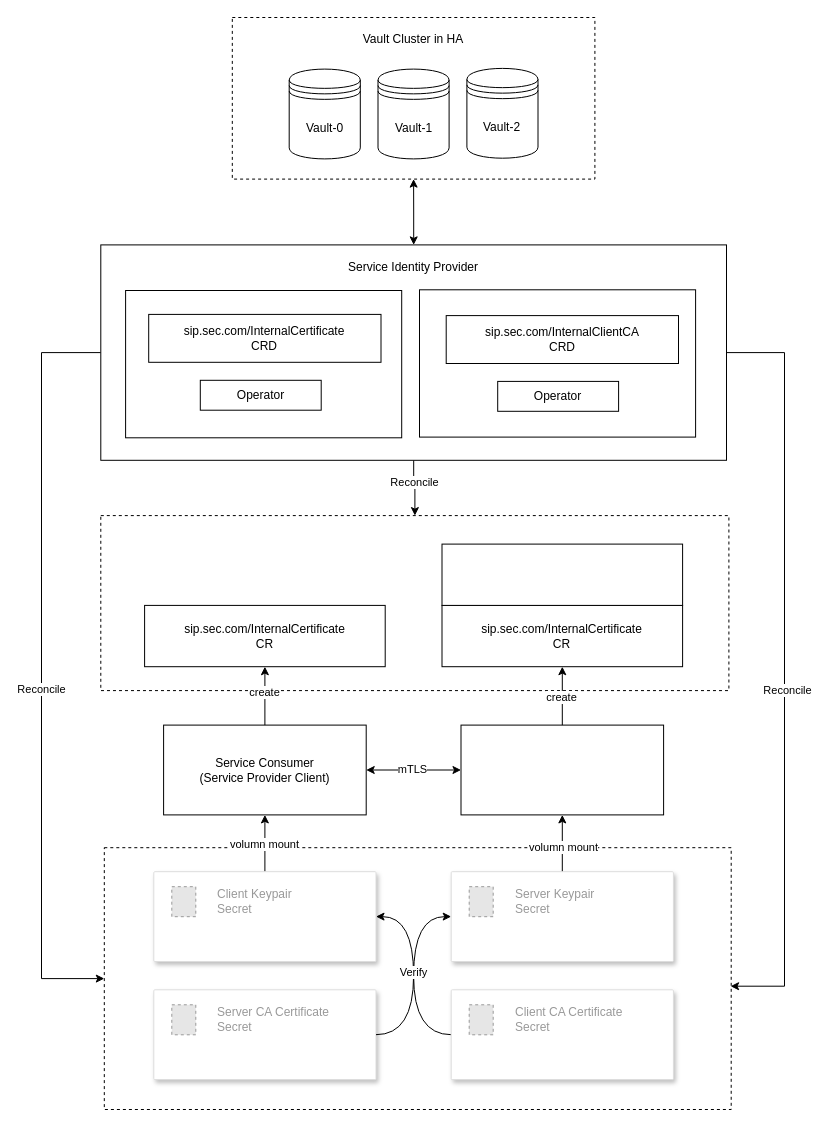
Some shapes in this 828 by 1127 pixel diagram are drawn without their labels. Grey dashed boxes stand in for pictures. The centre of each missing label's shape, as x and y in pixels:
Service Provider: (562,769)
sip.sec.com/InternalClientCA CR: (562,574)
